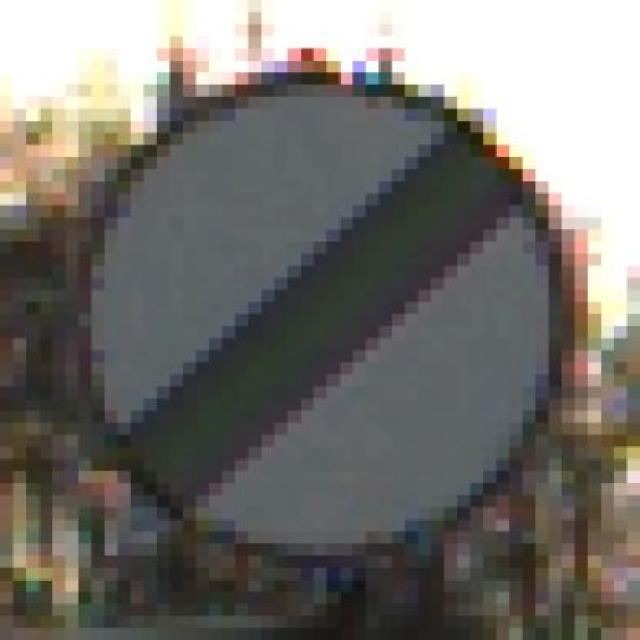End of all speed and passing limits: (65, 72, 601, 580)
